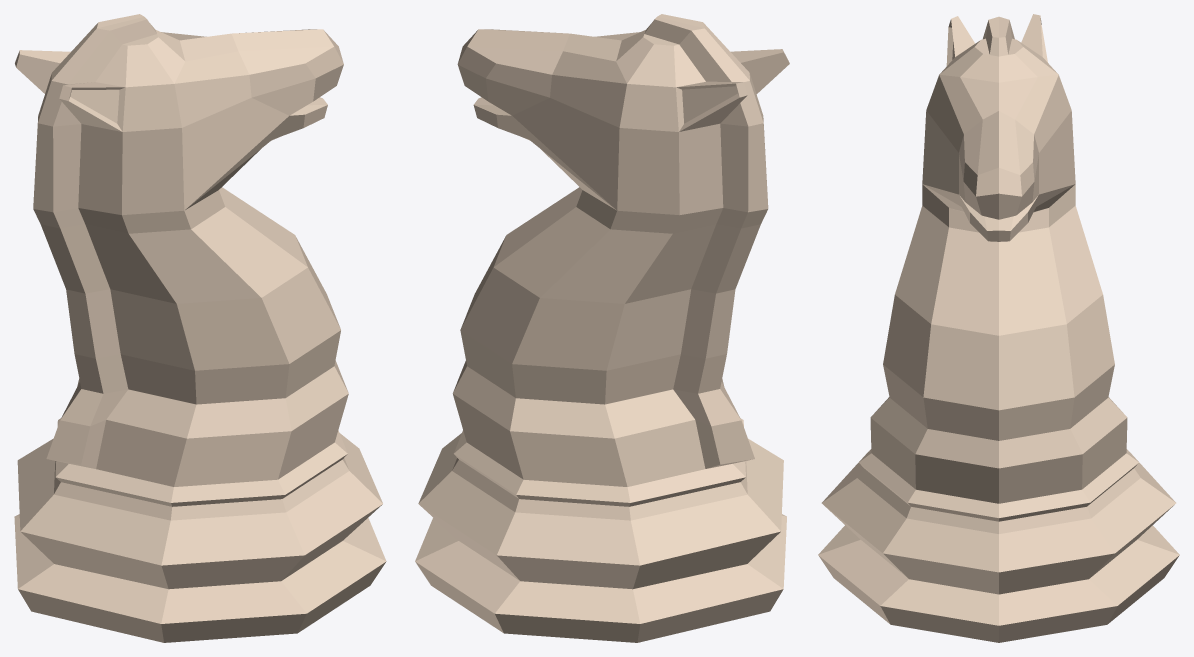
The model's file is knight white.fbx.
The picture shows the model from 3 angles, left to right: view 1: azimuth 30°, elevation 25°; view 2: azimuth 150°, elevation 25°; view 3: azimuth 270°, elevation 25°; orthographic projection. The views are drawn at different scales.
Parts seen in each view (by area): view 1: Knight.001; view 2: Knight.001; view 3: Knight.001.
Boxes of the visible parts, x1,y1,x2,y2 form: Knight.001: (14, 14, 386, 642); Knight.001: (415, 14, 789, 642); Knight.001: (818, 14, 1179, 642).
Size of the model in its own units: 0.0382 by 0.06 by 0.0382.
